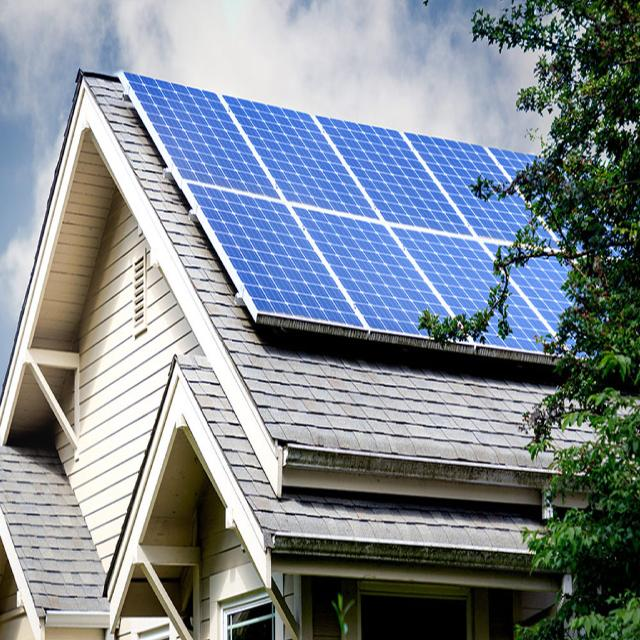clean-solar-panel: (120, 72, 530, 343), (459, 262, 565, 358)
